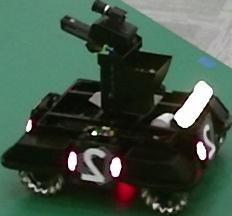armor_2: (68, 151, 122, 178)
back_2: (202, 122, 215, 159)
left_2: (77, 146, 111, 186)
light: (174, 80, 214, 129)
